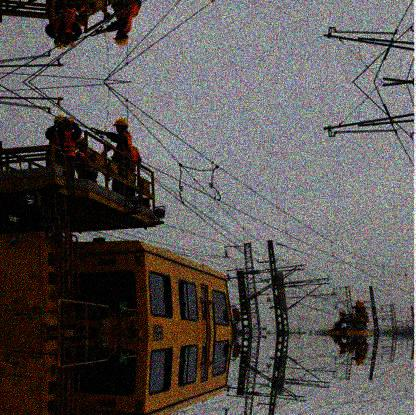helmet: (114, 31, 129, 48), (111, 116, 127, 131), (53, 115, 65, 130), (54, 37, 66, 50)
